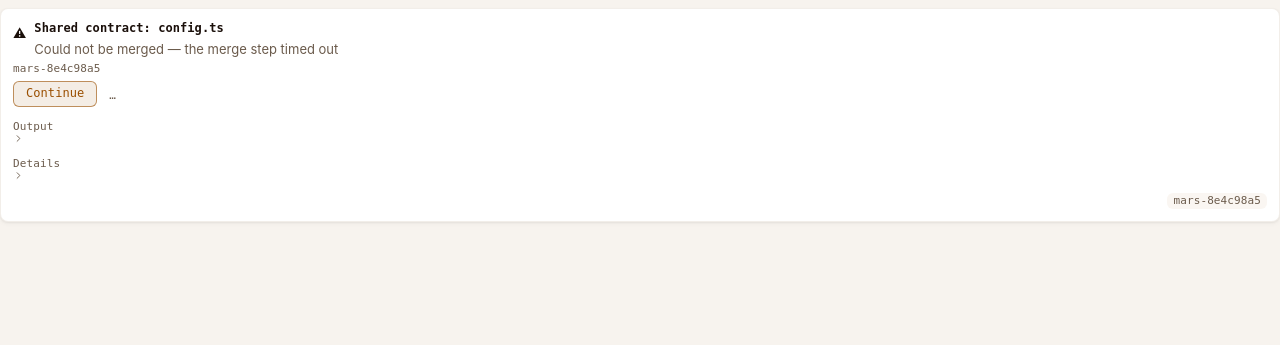
Test: ActionQueueRow – failed card headline and output › OUTPUT disclosure shows failure_reason text when opened
The width and height of the screenshot is (1280, 345).
Click the button with test id "alert-output-toggle".
click(33, 132)  # box [13,121,53,144]
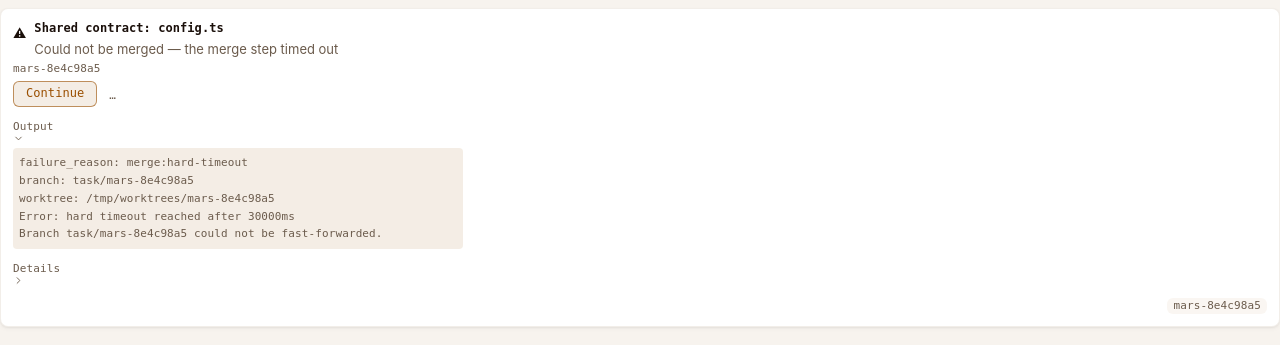
Check: the text with test id "alert-output-panel" is shown, box [13,148,463,249]
Check: the text with test id "alert-output-panel" shows "merge:hard-timeout", box [19,156,383,240]
Check: the text with test id "alert-output-panel" shows "failure_reason", box [19,156,383,240]
